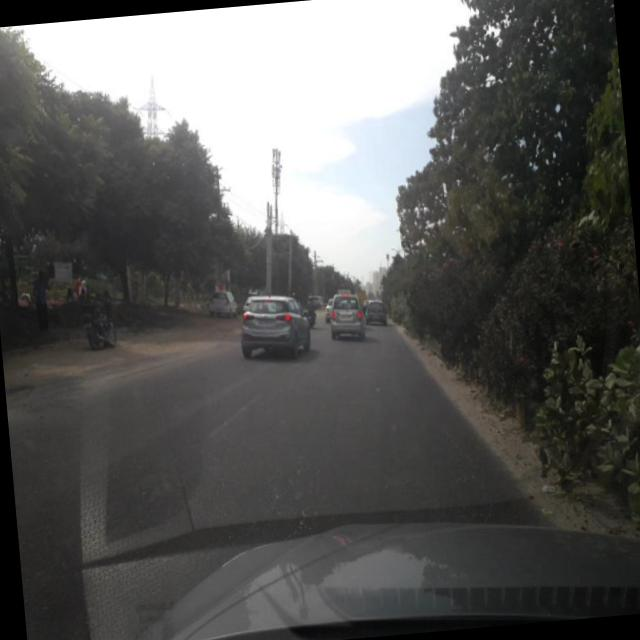crack: (9, 358, 185, 638), (184, 391, 497, 547)
